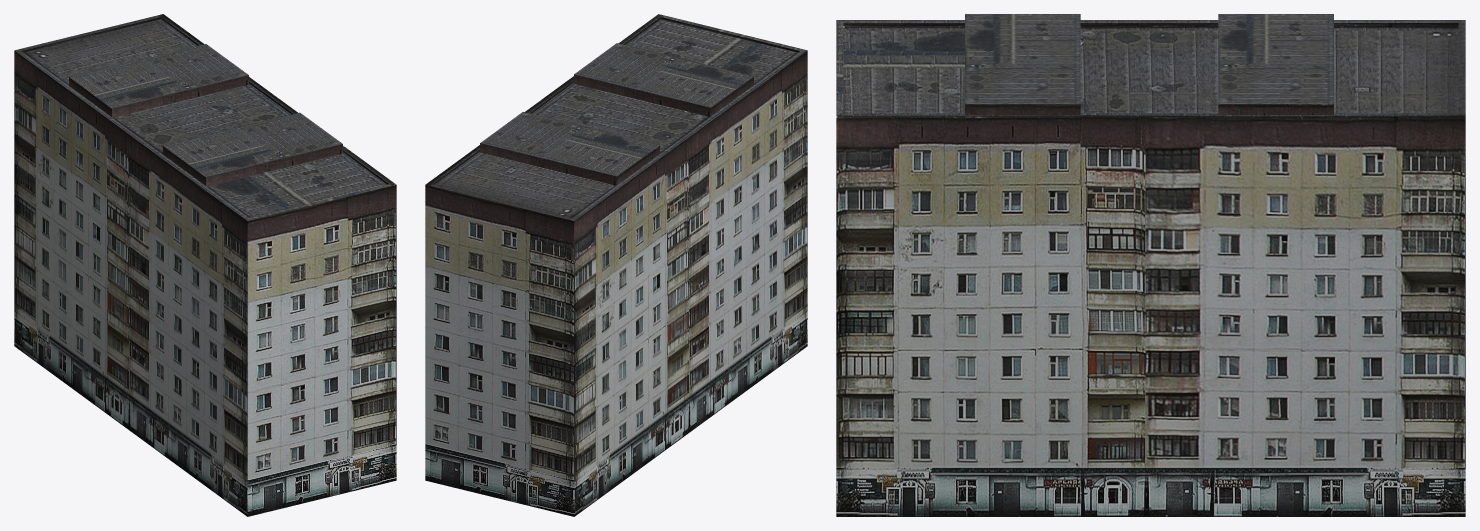
Rendered from sibir_dom_9et2.FBX.
3 views of the same model, side by side, from view 1: azimuth 30°, elevation 25°; view 2: azimuth 150°, elevation 25°; view 3: azimuth 270°, elevation 25° (orthographic). The views are drawn at different scales.
Parts seen in each view (by area): view 1: sibir_dom_9et2; view 2: sibir_dom_9et2; view 3: sibir_dom_9et2.
Part boxes in pixels (left/top/right/bottom): sibir_dom_9et2: left=14, top=14, right=396, bottom=516; sibir_dom_9et2: left=425, top=14, right=807, bottom=516; sibir_dom_9et2: left=836, top=14, right=1465, bottom=516.
Size of the model in its own units: 1218 by 3303 by 2368.
